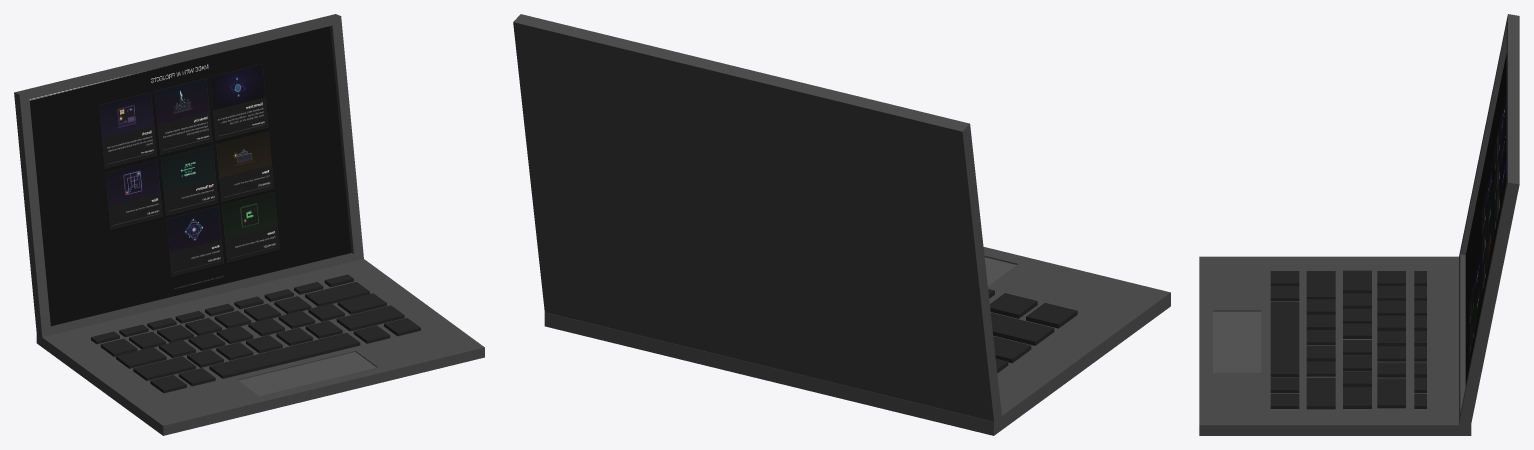
Rendered from made-with-ai-laptop-hq.glb.
3 views of the same model, side by side, from view 1: azimuth 30°, elevation 25°; view 2: azimuth 150°, elevation 25°; view 3: azimuth 270°, elevation 25° (orthographic). The views are drawn at different scales.
Parts seen in each view (by area): view 1: Cube.001, Cube, Cube.042, Cube.037, Cube.019, Cube.029, Cube.020, Cube.028; view 2: Cube.001, Cube, Cube.029, Cube.038, Cube.039, Cube.020; view 3: Cube, Cube.001, Cube.042, Cube.037, Cube.019, Cube.029, Cube.020, Cube.028, Cube.032, Cube.036, Cube.033, Cube.034 (+18 smaller).
Boxes of the visible parts, x1=… form: Cube.001: x1=14, y1=14, x2=363, y2=337; Cube: x1=36, y1=259, x2=484, y2=435; Cube.042: x1=209, y1=332, x2=360, y2=378; Cube.037: x1=336, y1=305, x2=404, y2=331; Cube.019: x1=305, y1=282, x2=369, y2=306; Cube.029: x1=133, y1=356, x2=195, y2=380; Cube.020: x1=116, y1=347, x2=166, y2=368; Cube.028: x1=337, y1=293, x2=386, y2=314; Cube.001: x1=513, y1=14, x2=1001, y2=423; Cube: x1=544, y1=247, x2=1170, y2=435; Cube.029: x1=990, y1=312, x2=1054, y2=345; Cube.038: x1=1026, y1=303, x2=1077, y2=328; Cube.039: x1=990, y1=293, x2=1037, y2=318; Cube.020: x1=993, y1=336, x2=1031, y2=363; Cube: x1=1199, y1=256, x2=1471, y2=435; Cube.001: x1=1459, y1=14, x2=1519, y2=426; Cube.042: x1=1270, y1=302, x2=1299, y2=377; Cube.037: x1=1306, y1=377, x2=1335, y2=409; Cube.019: x1=1377, y1=378, x2=1405, y2=408; Cube.029: x1=1306, y1=271, x2=1335, y2=299; Cube.020: x1=1343, y1=270, x2=1371, y2=293; Cube.028: x1=1343, y1=387, x2=1371, y2=408; Cube.032: x1=1306, y1=299, x2=1335, y2=314; Cube.036: x1=1306, y1=361, x2=1335, y2=376; Cube.033: x1=1306, y1=314, x2=1335, y2=329; Cube.034: x1=1306, y1=330, x2=1335, y2=345.
Bounding box in the file's own units: 5.33 × 3.74 × 4.28.
4 materials, 1 textured.
